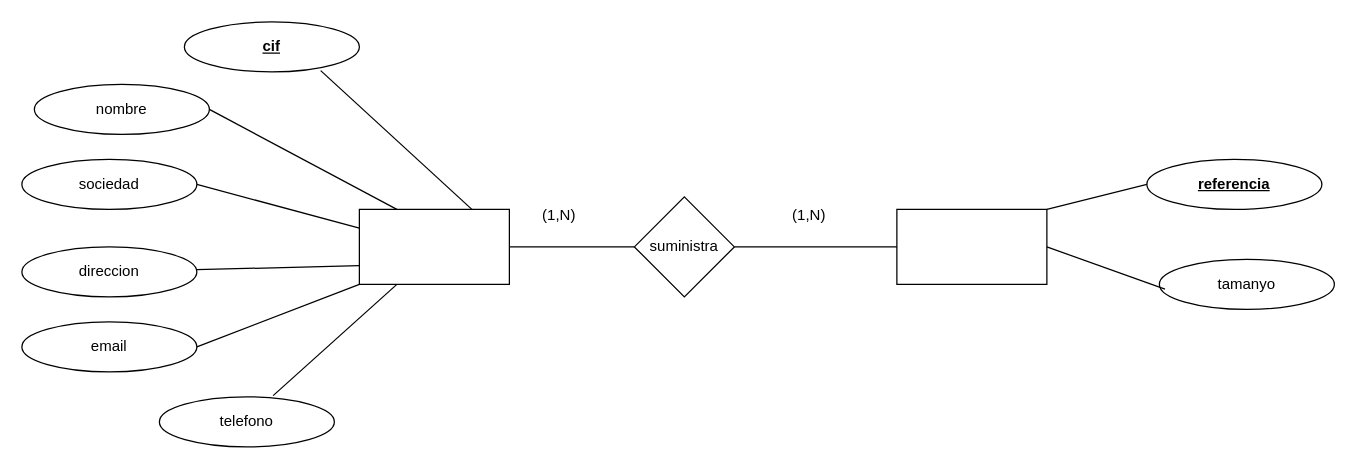
This 1356x469 diagram has some shape labels left out. Each missing label, with the box of its shape:
material: (896, 208, 1047, 284)
proveedor: (358, 208, 509, 284)
